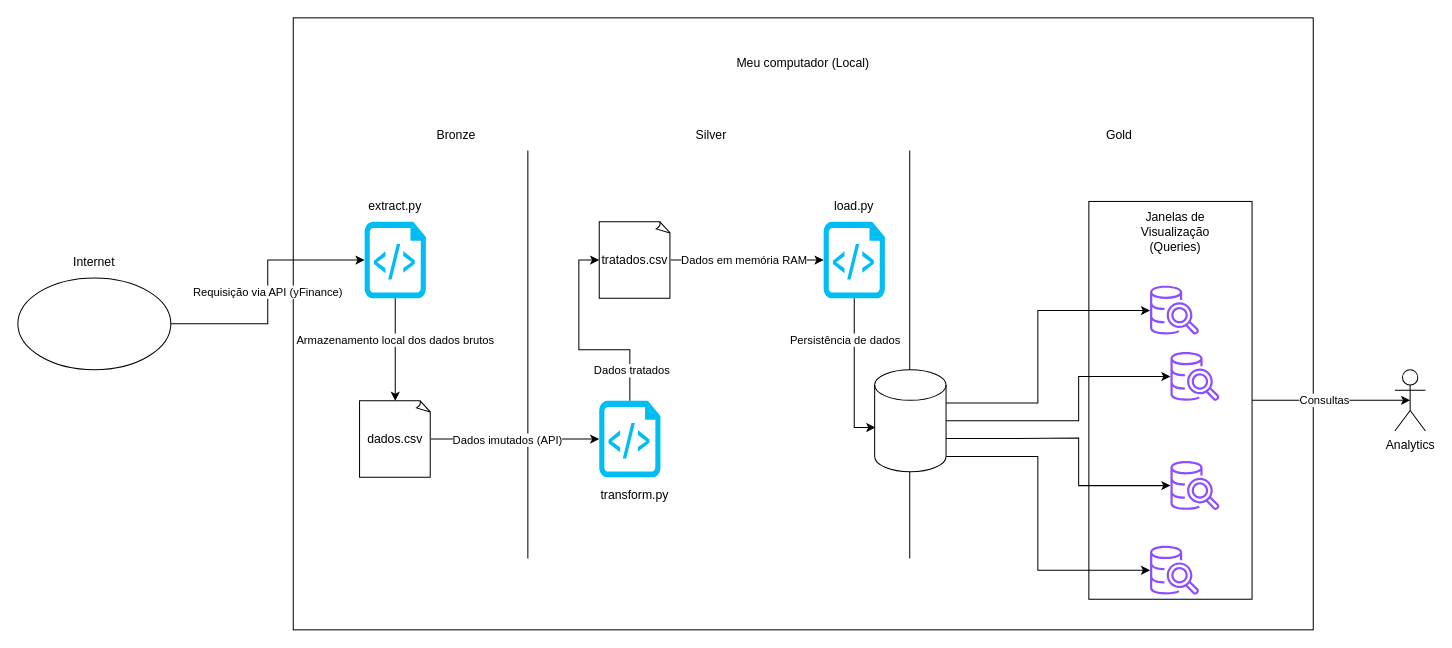
The diagram is 1452 pixels wide and 648 high, and some of its shapes have lost their labels. The centre of each missing label's shape, as x and y in pixels:
"Dados B3" belongs at pixel 94 323.
"PostgreSQL" belongs at pixel 910 420.
